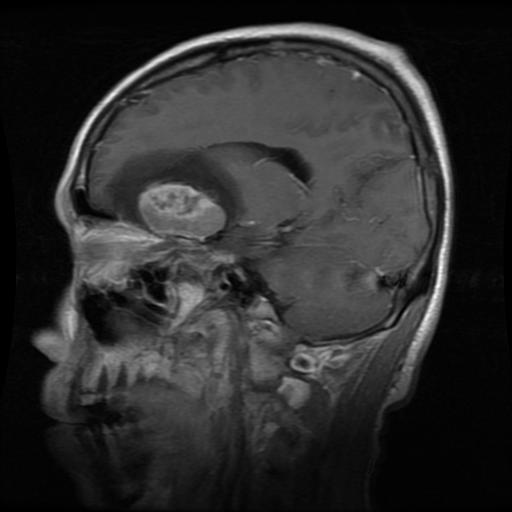Menigiomia_tumour: (136, 179, 226, 239)
